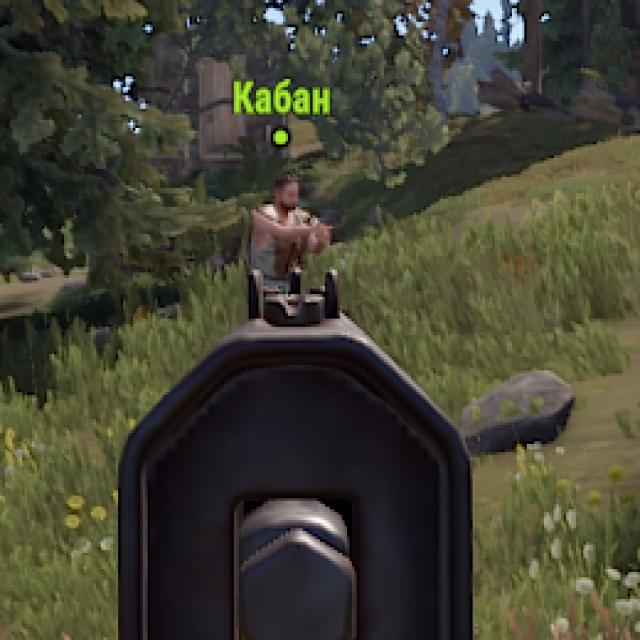Player: (248, 176, 334, 269)
